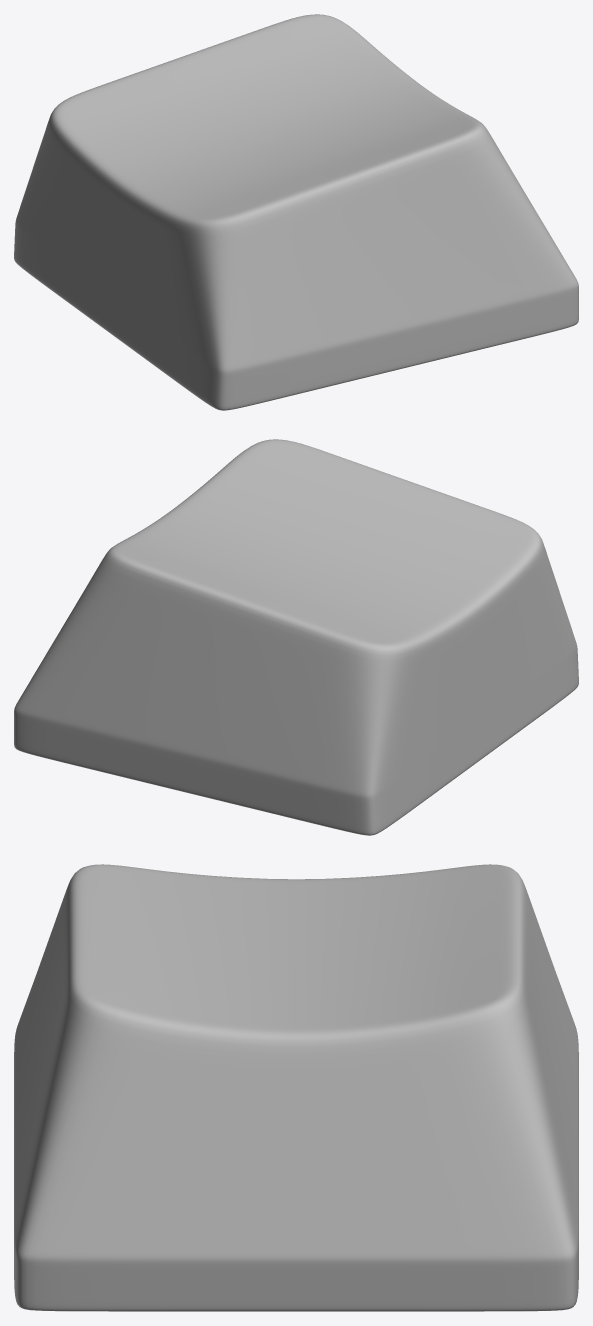
File: Key1.glb
The picture shows the model from 3 angles, top to bottom: view 1: azimuth 30°, elevation 25°; view 2: azimuth 150°, elevation 25°; view 3: azimuth 270°, elevation 25°; orthographic projection. The views are drawn at different scales.
Visible parts, largest first — view 1: Cube.002; view 2: Cube.002; view 3: Cube.002.
Part boxes in pixels (x1=…): Cube.002: x1=14, y1=14, x2=578, y2=410; Cube.002: x1=14, y1=439, x2=578, y2=835; Cube.002: x1=14, y1=864, x2=578, y2=1311.
Bounding box in the file's own units: 1.45 × 0.7414 × 1.45.
1 material, 1 textured.
